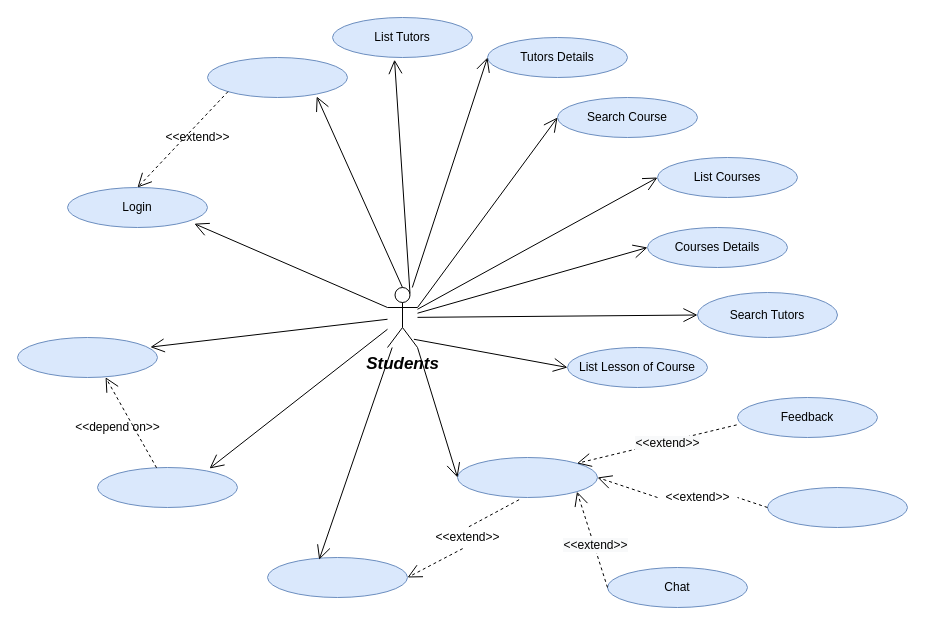
The diagram is 925 pixels wide and 625 high, and some of its shapes have lost their labels. Each missing label, with the centre of its shape:
Call Video: point 837,507
Enroll Course: point 527,477
Forget Password: point 167,487
Payment: point 337,577
Register: point 87,357
Update profile: point 277,77
